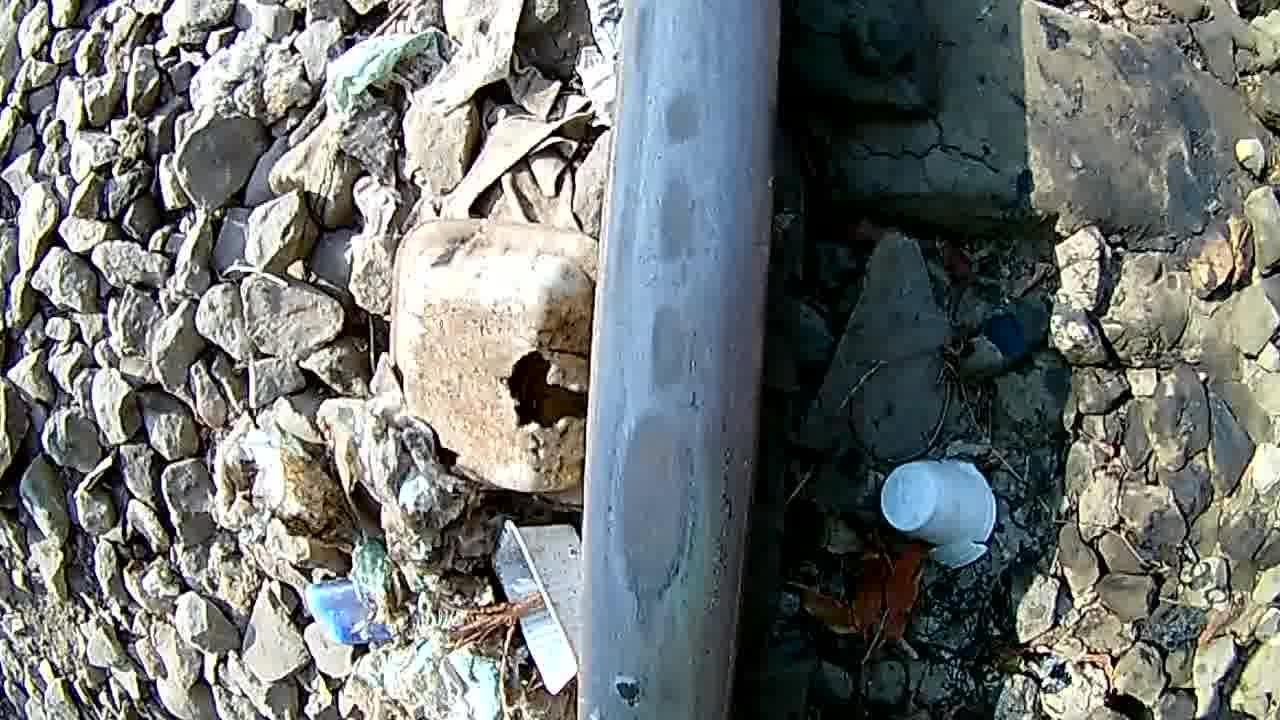crack: (588, 15, 762, 720)
